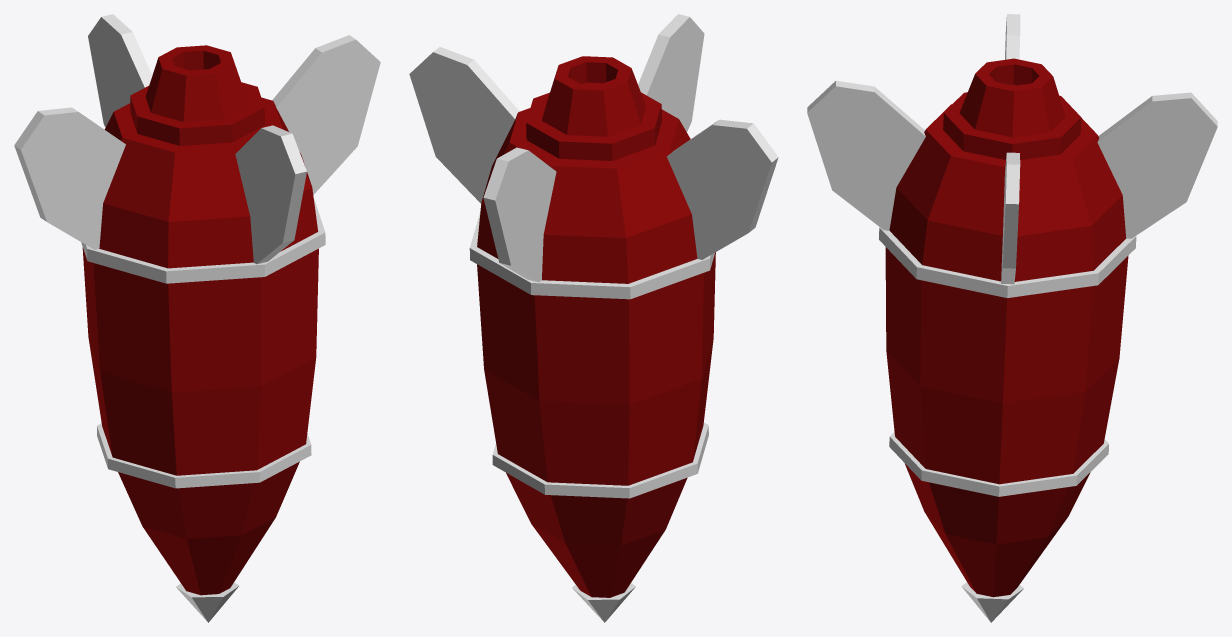
The model's file is Rocket.fbx.
3 renders of one model, left to right at view 1: azimuth 30°, elevation 25°; view 2: azimuth 150°, elevation 25°; view 3: azimuth 270°, elevation 25°, orthographic.
Visible parts, largest first — view 1: Rocket_Ship_01; view 2: Rocket_Ship_01; view 3: Rocket_Ship_01.
Boxes of the visible parts, <box> form: Rocket_Ship_01: <box>14,14,380,622</box>; Rocket_Ship_01: <box>409,14,778,622</box>; Rocket_Ship_01: <box>807,14,1217,622</box>.
Size of the model in its own units: 6.59 by 9.72 by 6.58.
